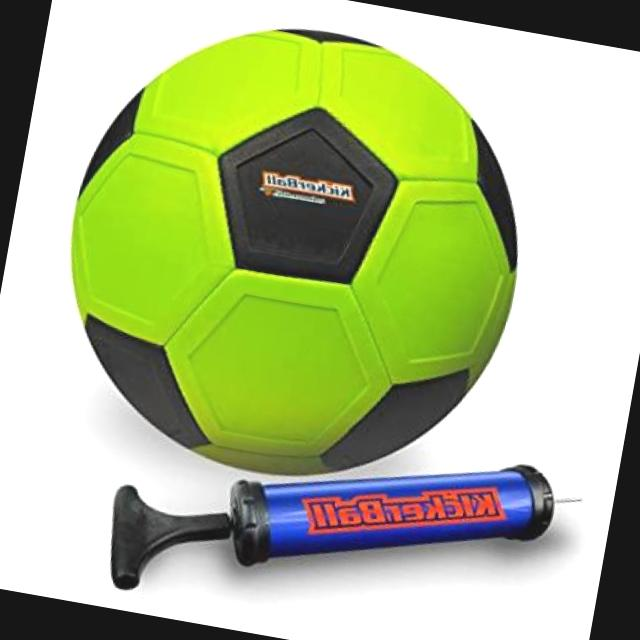Soccer Ball: (31, 0, 558, 514)
